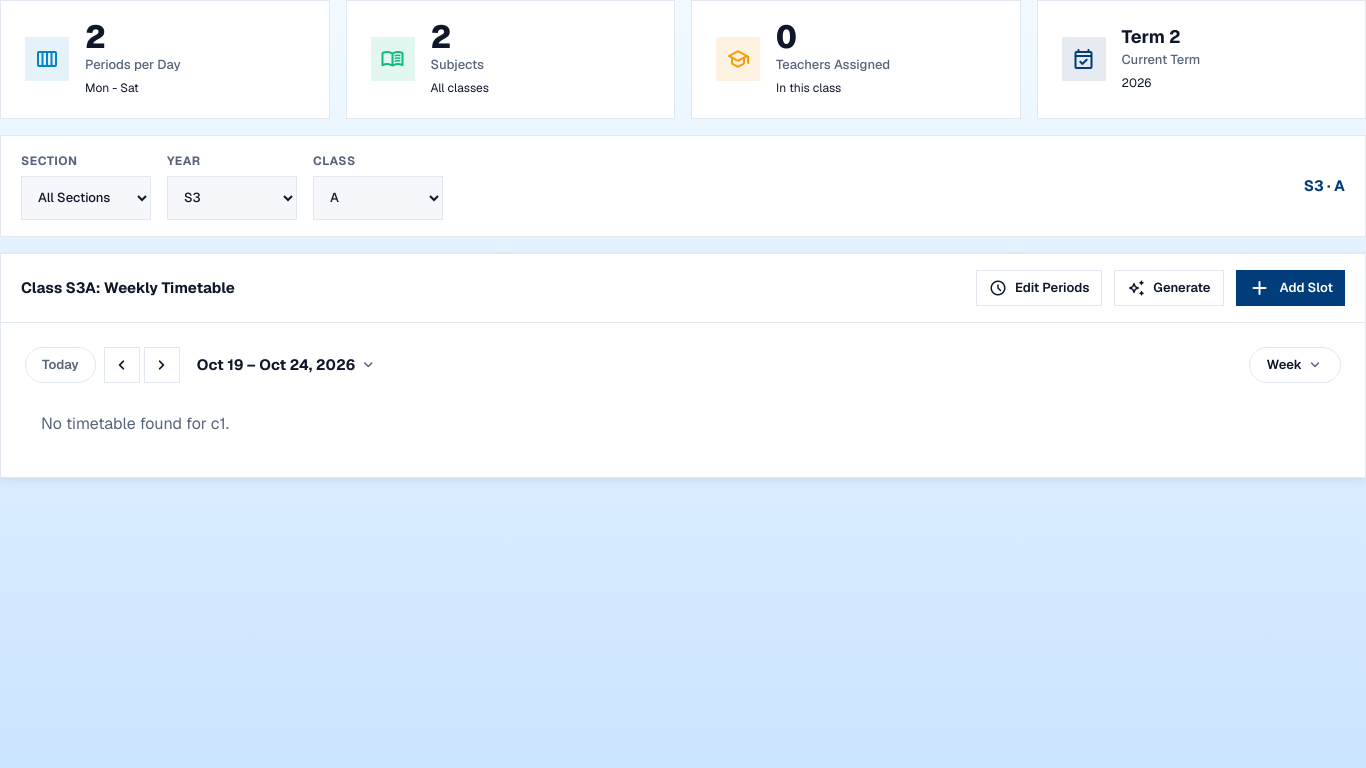
Test: DosTimetablePanel › keeps the form open and says so when saving fails
The width and height of the screenshot is (1366, 768).
Click the button "Add Slot" at (1290, 288), box [1236,270,1345,306]
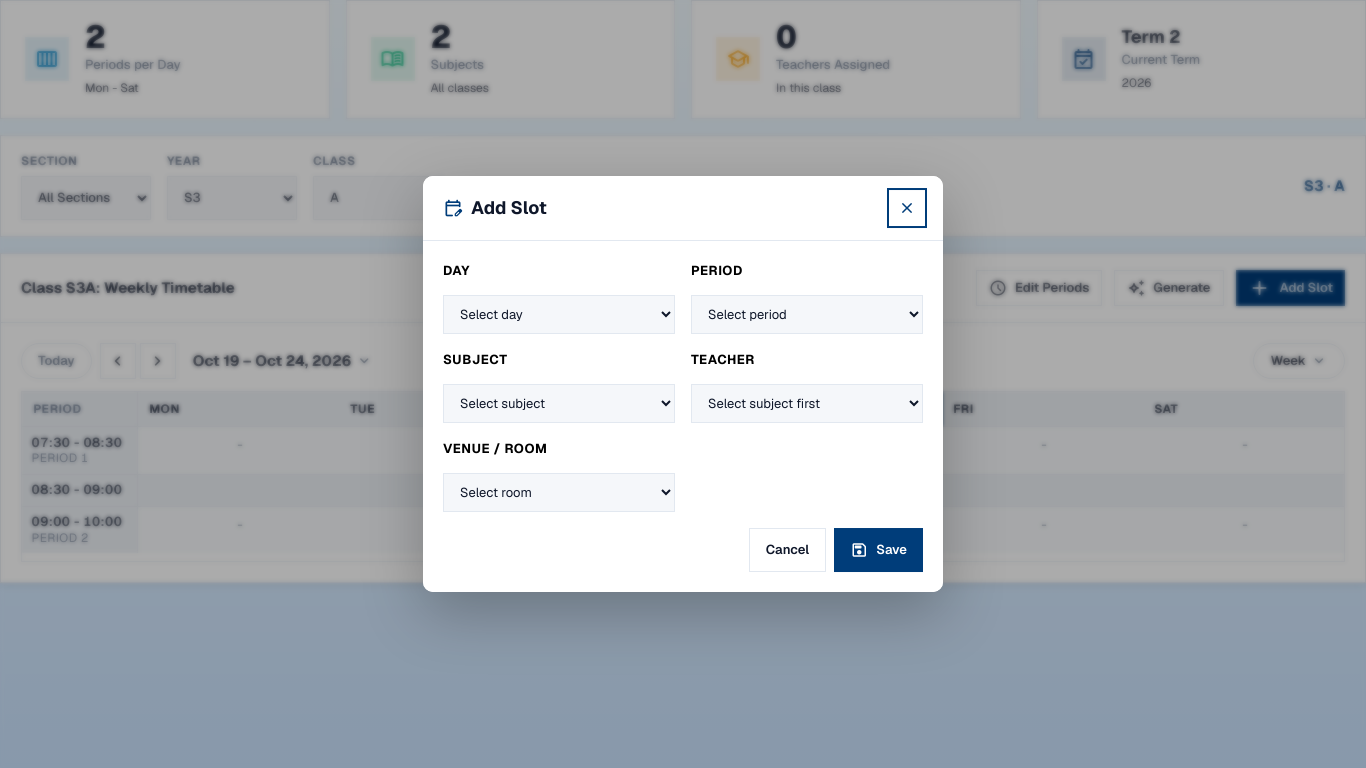
Select "Monday" in the dropdown labelled "Day" at (559, 315), box [443,295,675,334]
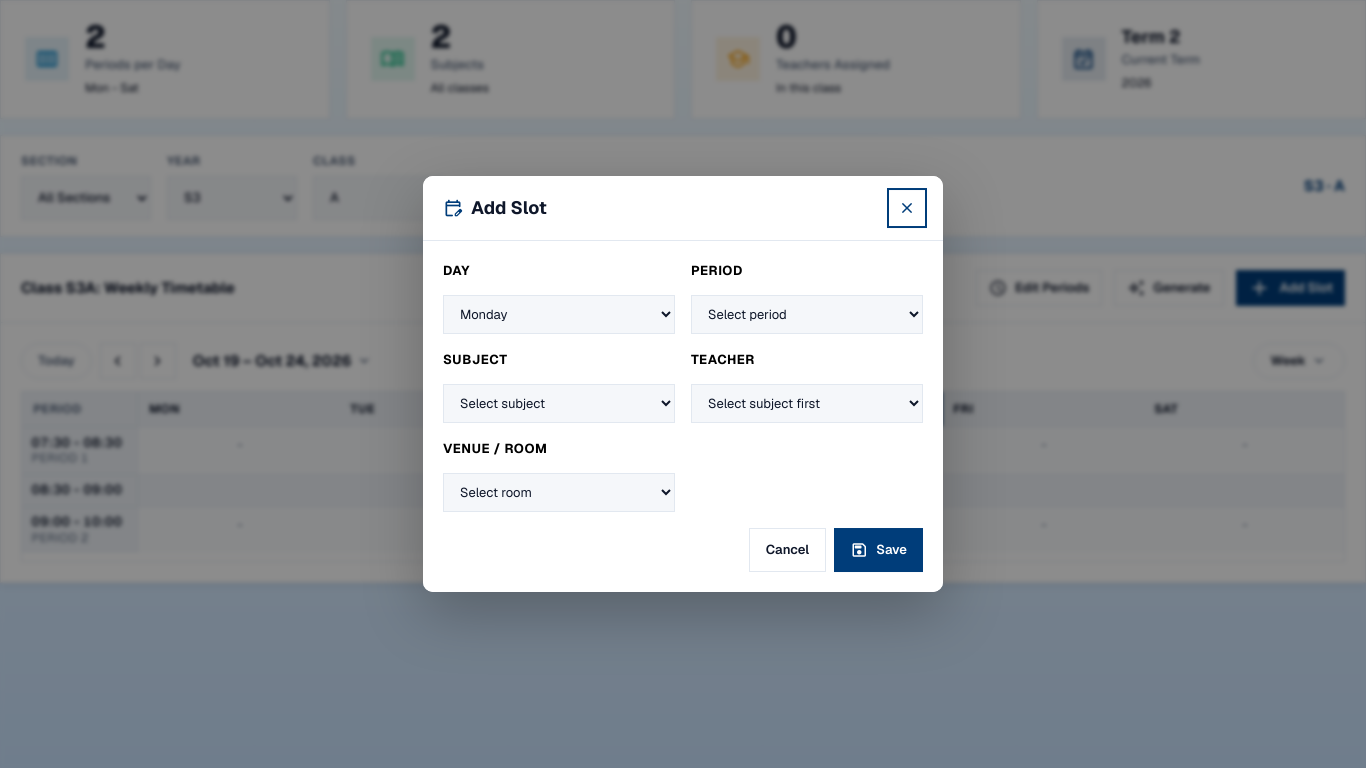
Select "Period 1 (07:30 - 08:30)" in the dropdown labelled "Period" at (807, 315), box [691,295,923,334]
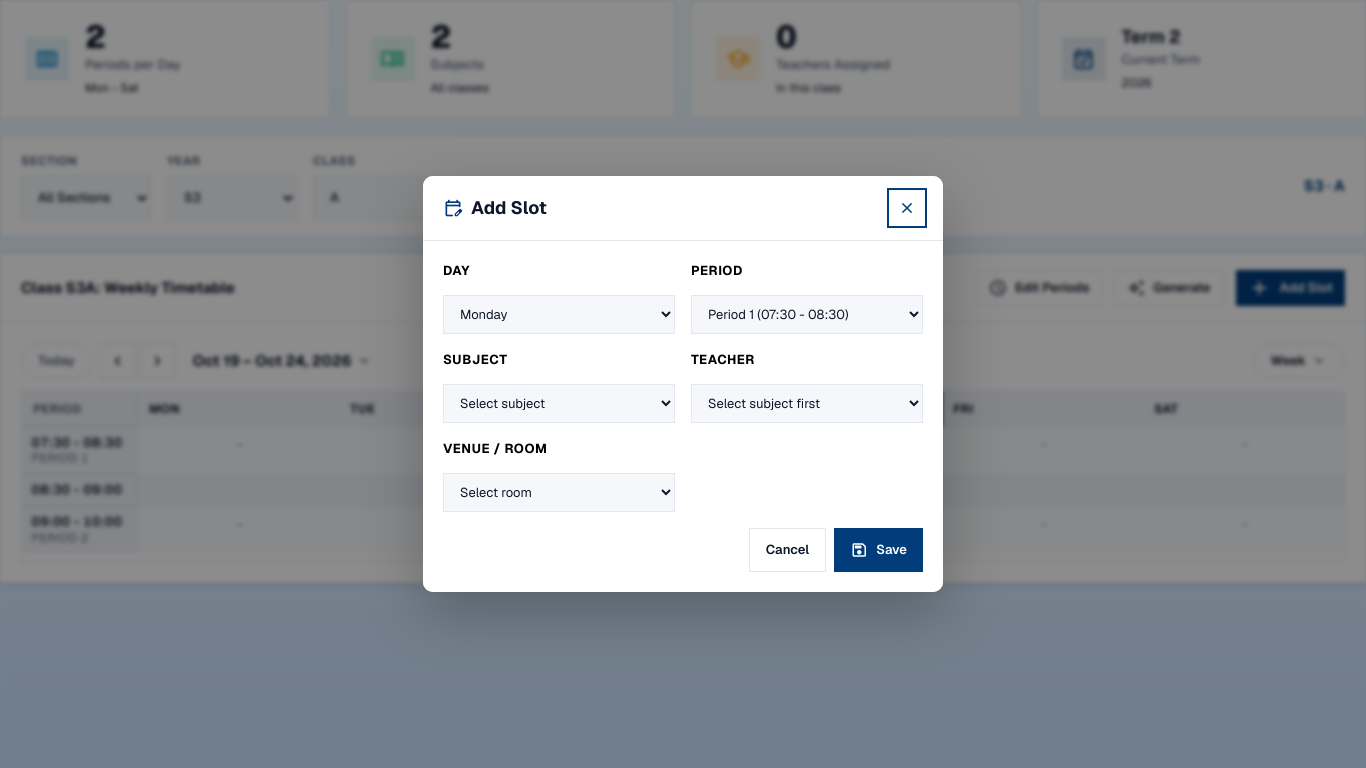
Select "Mathematics" in the dropdown labelled "Subject" at (559, 404), box [443,384,675,423]
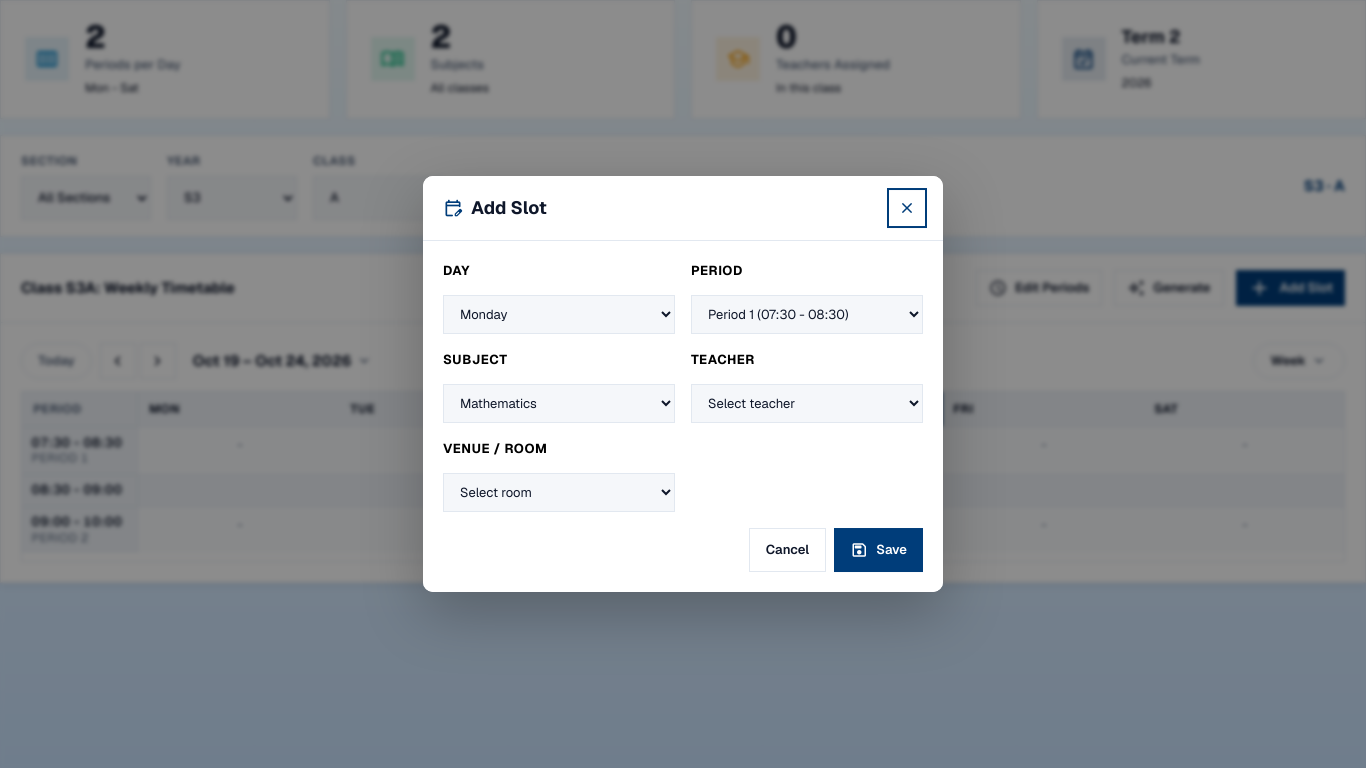
Click the button "Save" at (879, 550), box [834,528,923,572]
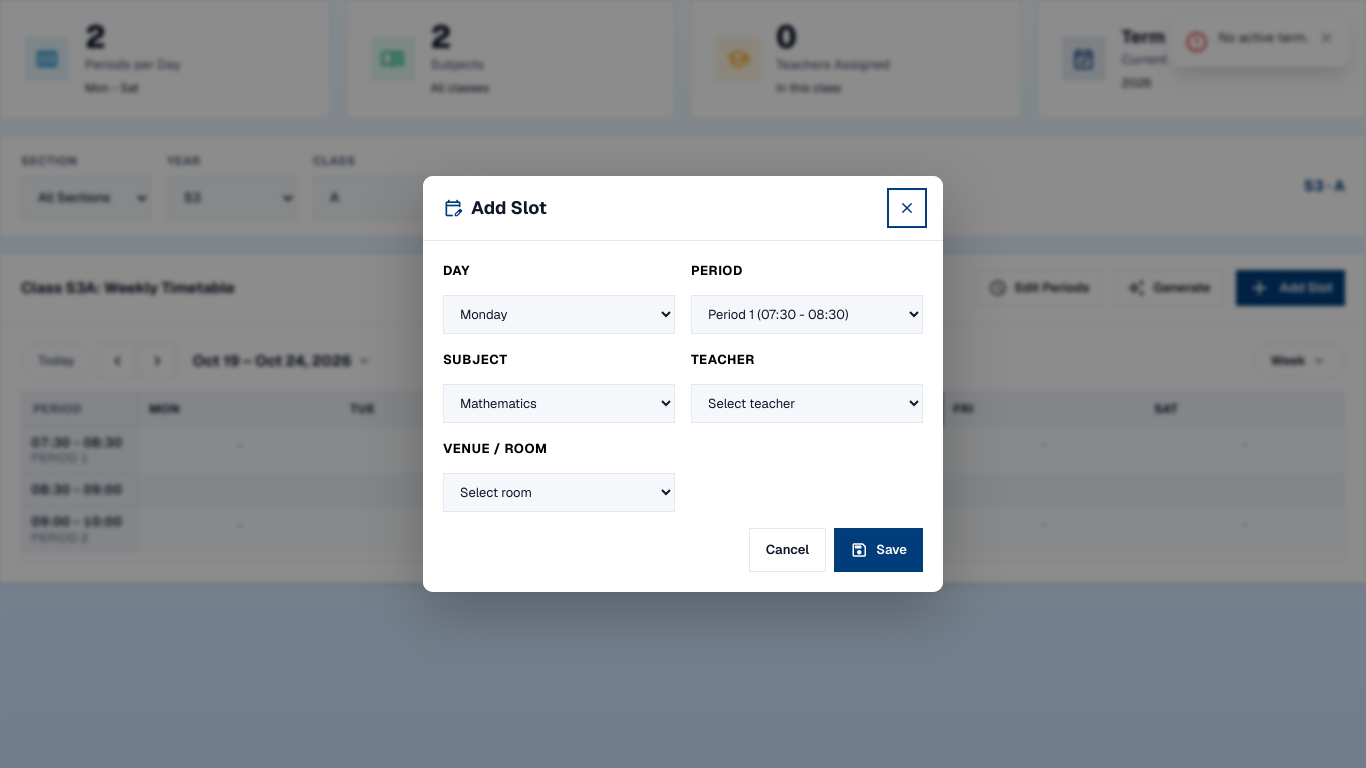
Now the heading "Add Slot" is shown, box [471,196,547,219]
Now the text "No active term." is shown, box [1218,29,1308,47]
